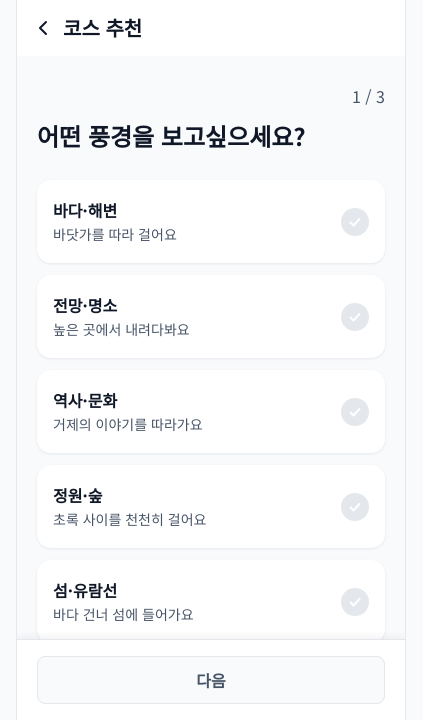
Test: 성향으로 코스 찾기(2026-09-20) › 질문 셋을 차례로 묻고, 답에 맞는 코스와 그 이유를 보여준다
Expected: the heading "어떤 풍경을 보고싶으세요?" is shown, [37, 118, 306, 153]
Expected: the text "1 / 3" is shown, [352, 84, 385, 108]
Click the button "바다·해변 바닷가를 따라 걸어요". click: click(85, 210)
box: [37, 180, 385, 263]
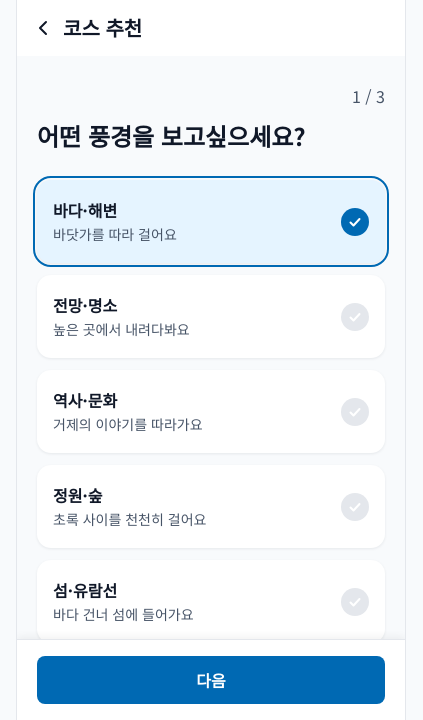
Click the button "다음". click: click(211, 680)
box: [37, 656, 385, 704]
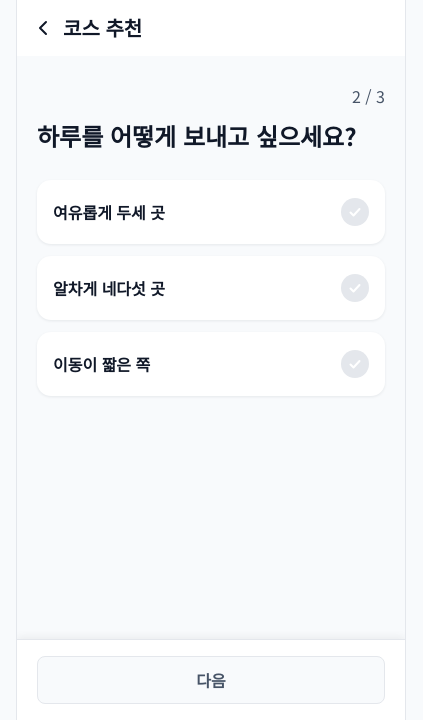
Click the button "여유롭게 두세 곳". click: click(109, 212)
box: [37, 180, 385, 244]
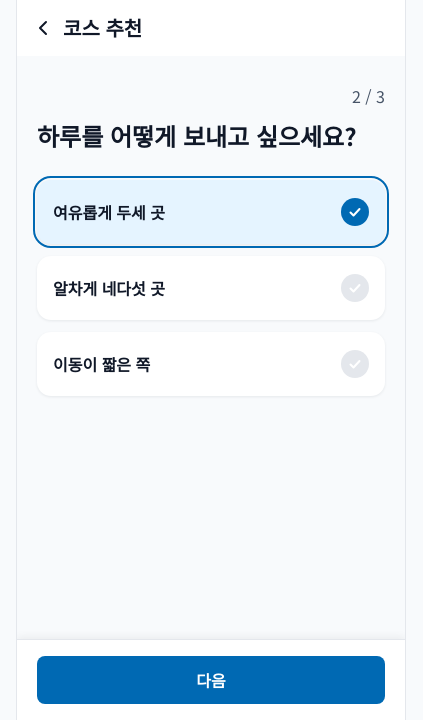
Click the button "다음". click: click(211, 680)
box: [37, 656, 385, 704]
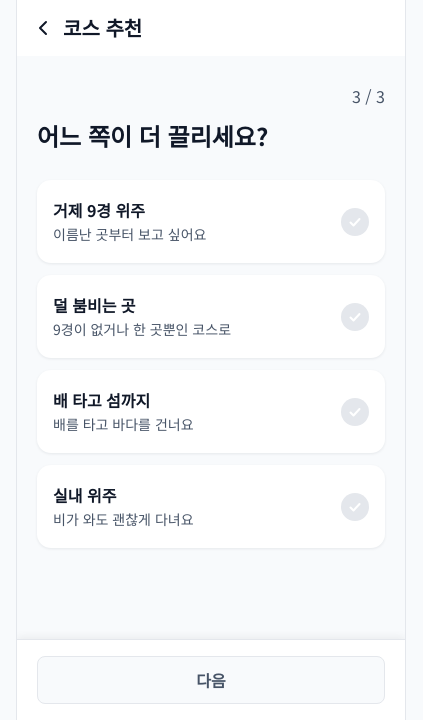
Click the button "덜 붐비는 곳 9경이 없거나 한 곳뿐인 코스로". click: click(211, 316)
box: [37, 275, 385, 358]
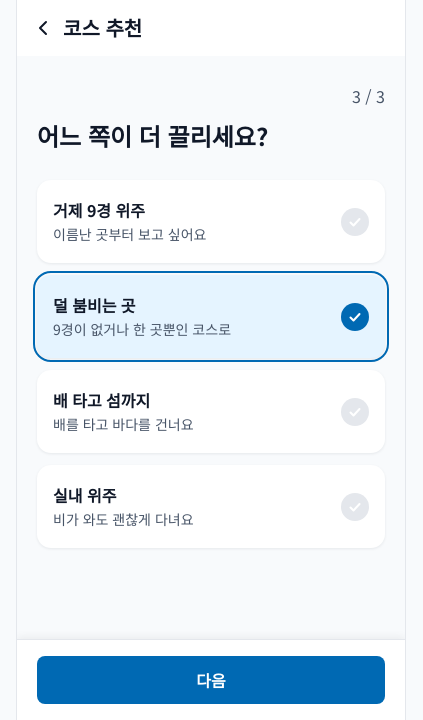
Click the button "다음". click: click(211, 680)
box: [37, 656, 385, 704]
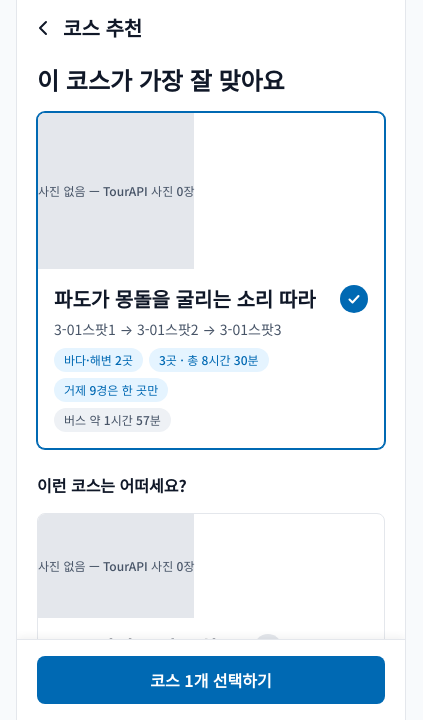
Result: the heading "이 코스가 가장 잘 맞아요" is shown at [37, 62, 285, 97]
Result: the text "바다·해변 2곳" is shown at [54, 348, 143, 372]
Result: the text "3곳 · 총 8시간 30분" is shown at [149, 348, 269, 372]
